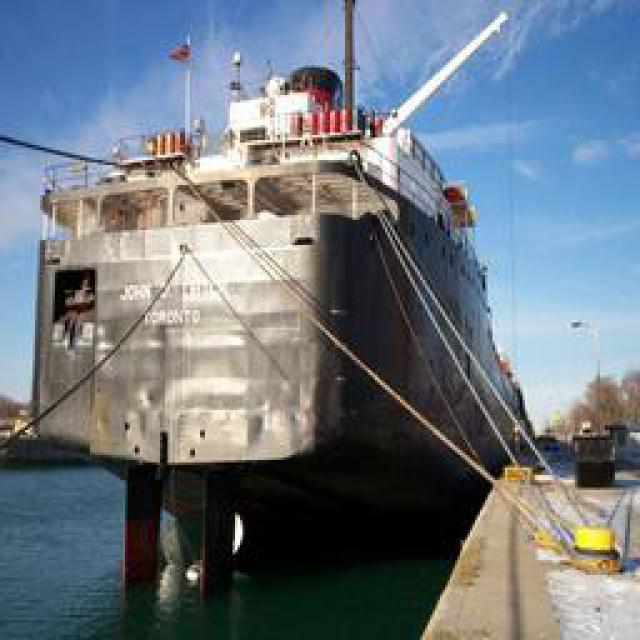Ship: (21, 26, 559, 581)
